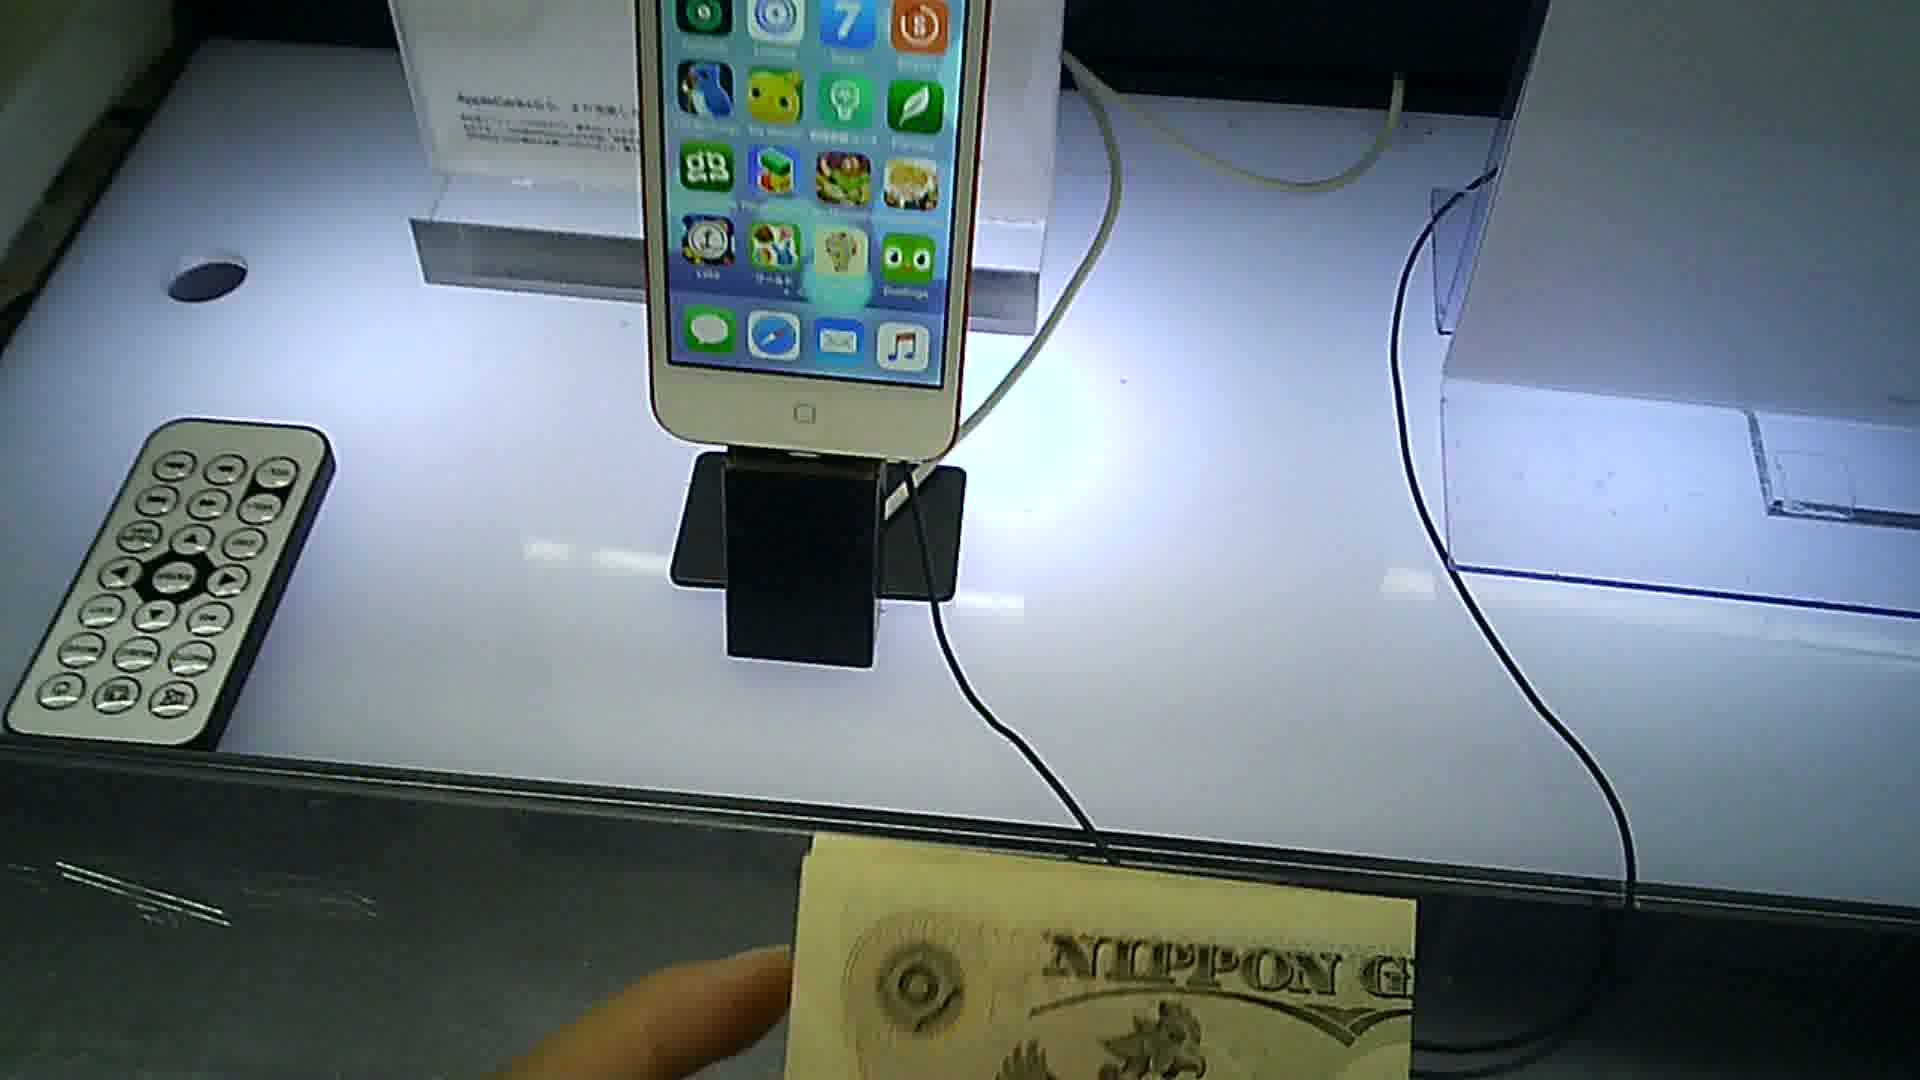10,000 Yen: (761, 810, 1425, 1079)
